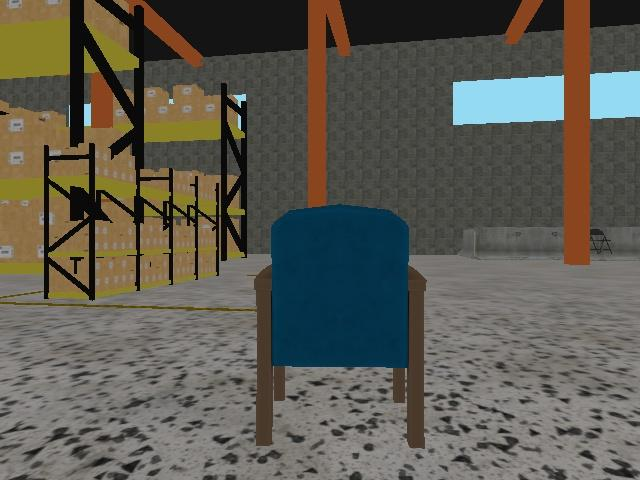chair: (251, 203, 430, 451)
